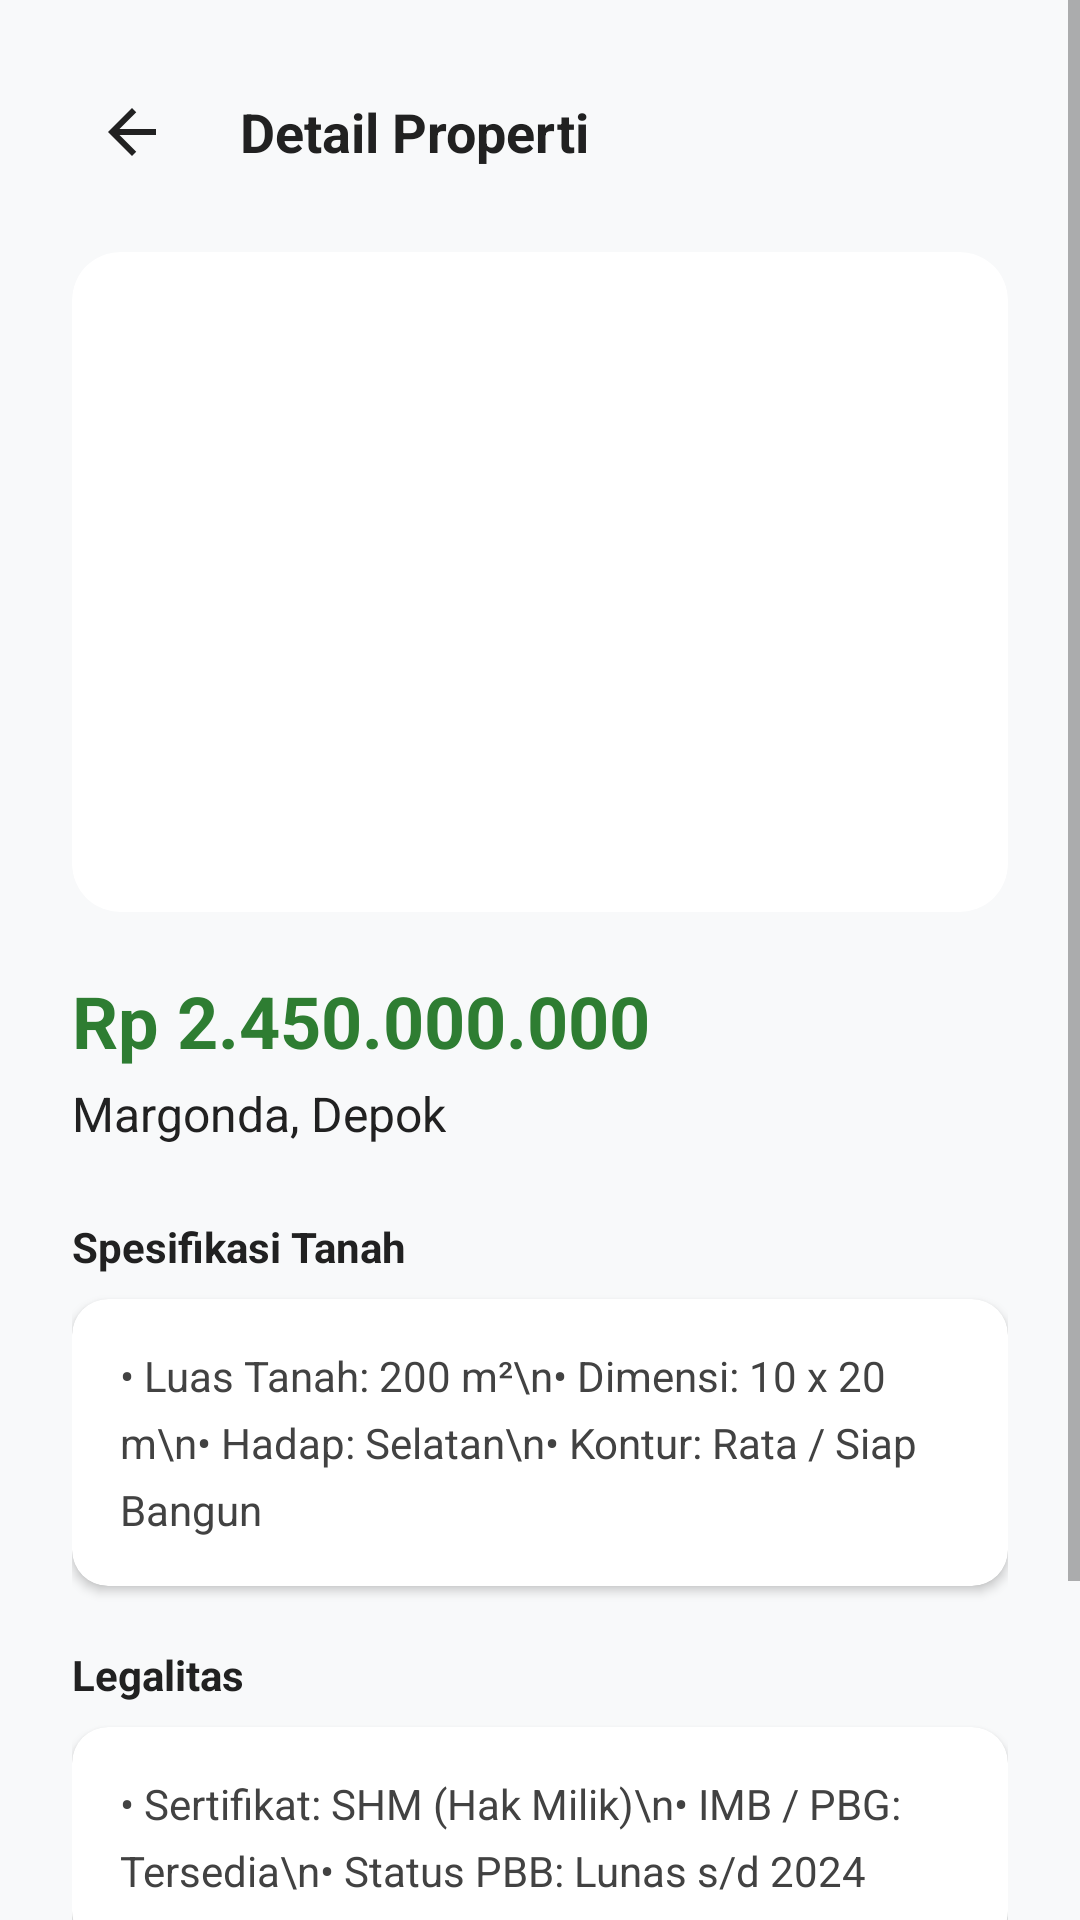

Locate icon controls on the screen. Image size 1080x1920, boxes as [x1,y1,x2,y2].
arrow back: [108,108,156,156]
